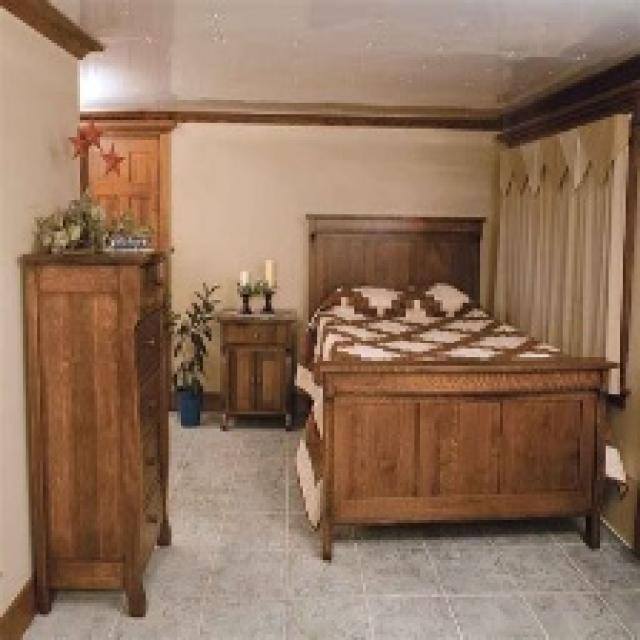Bed: (294, 211, 617, 560)
